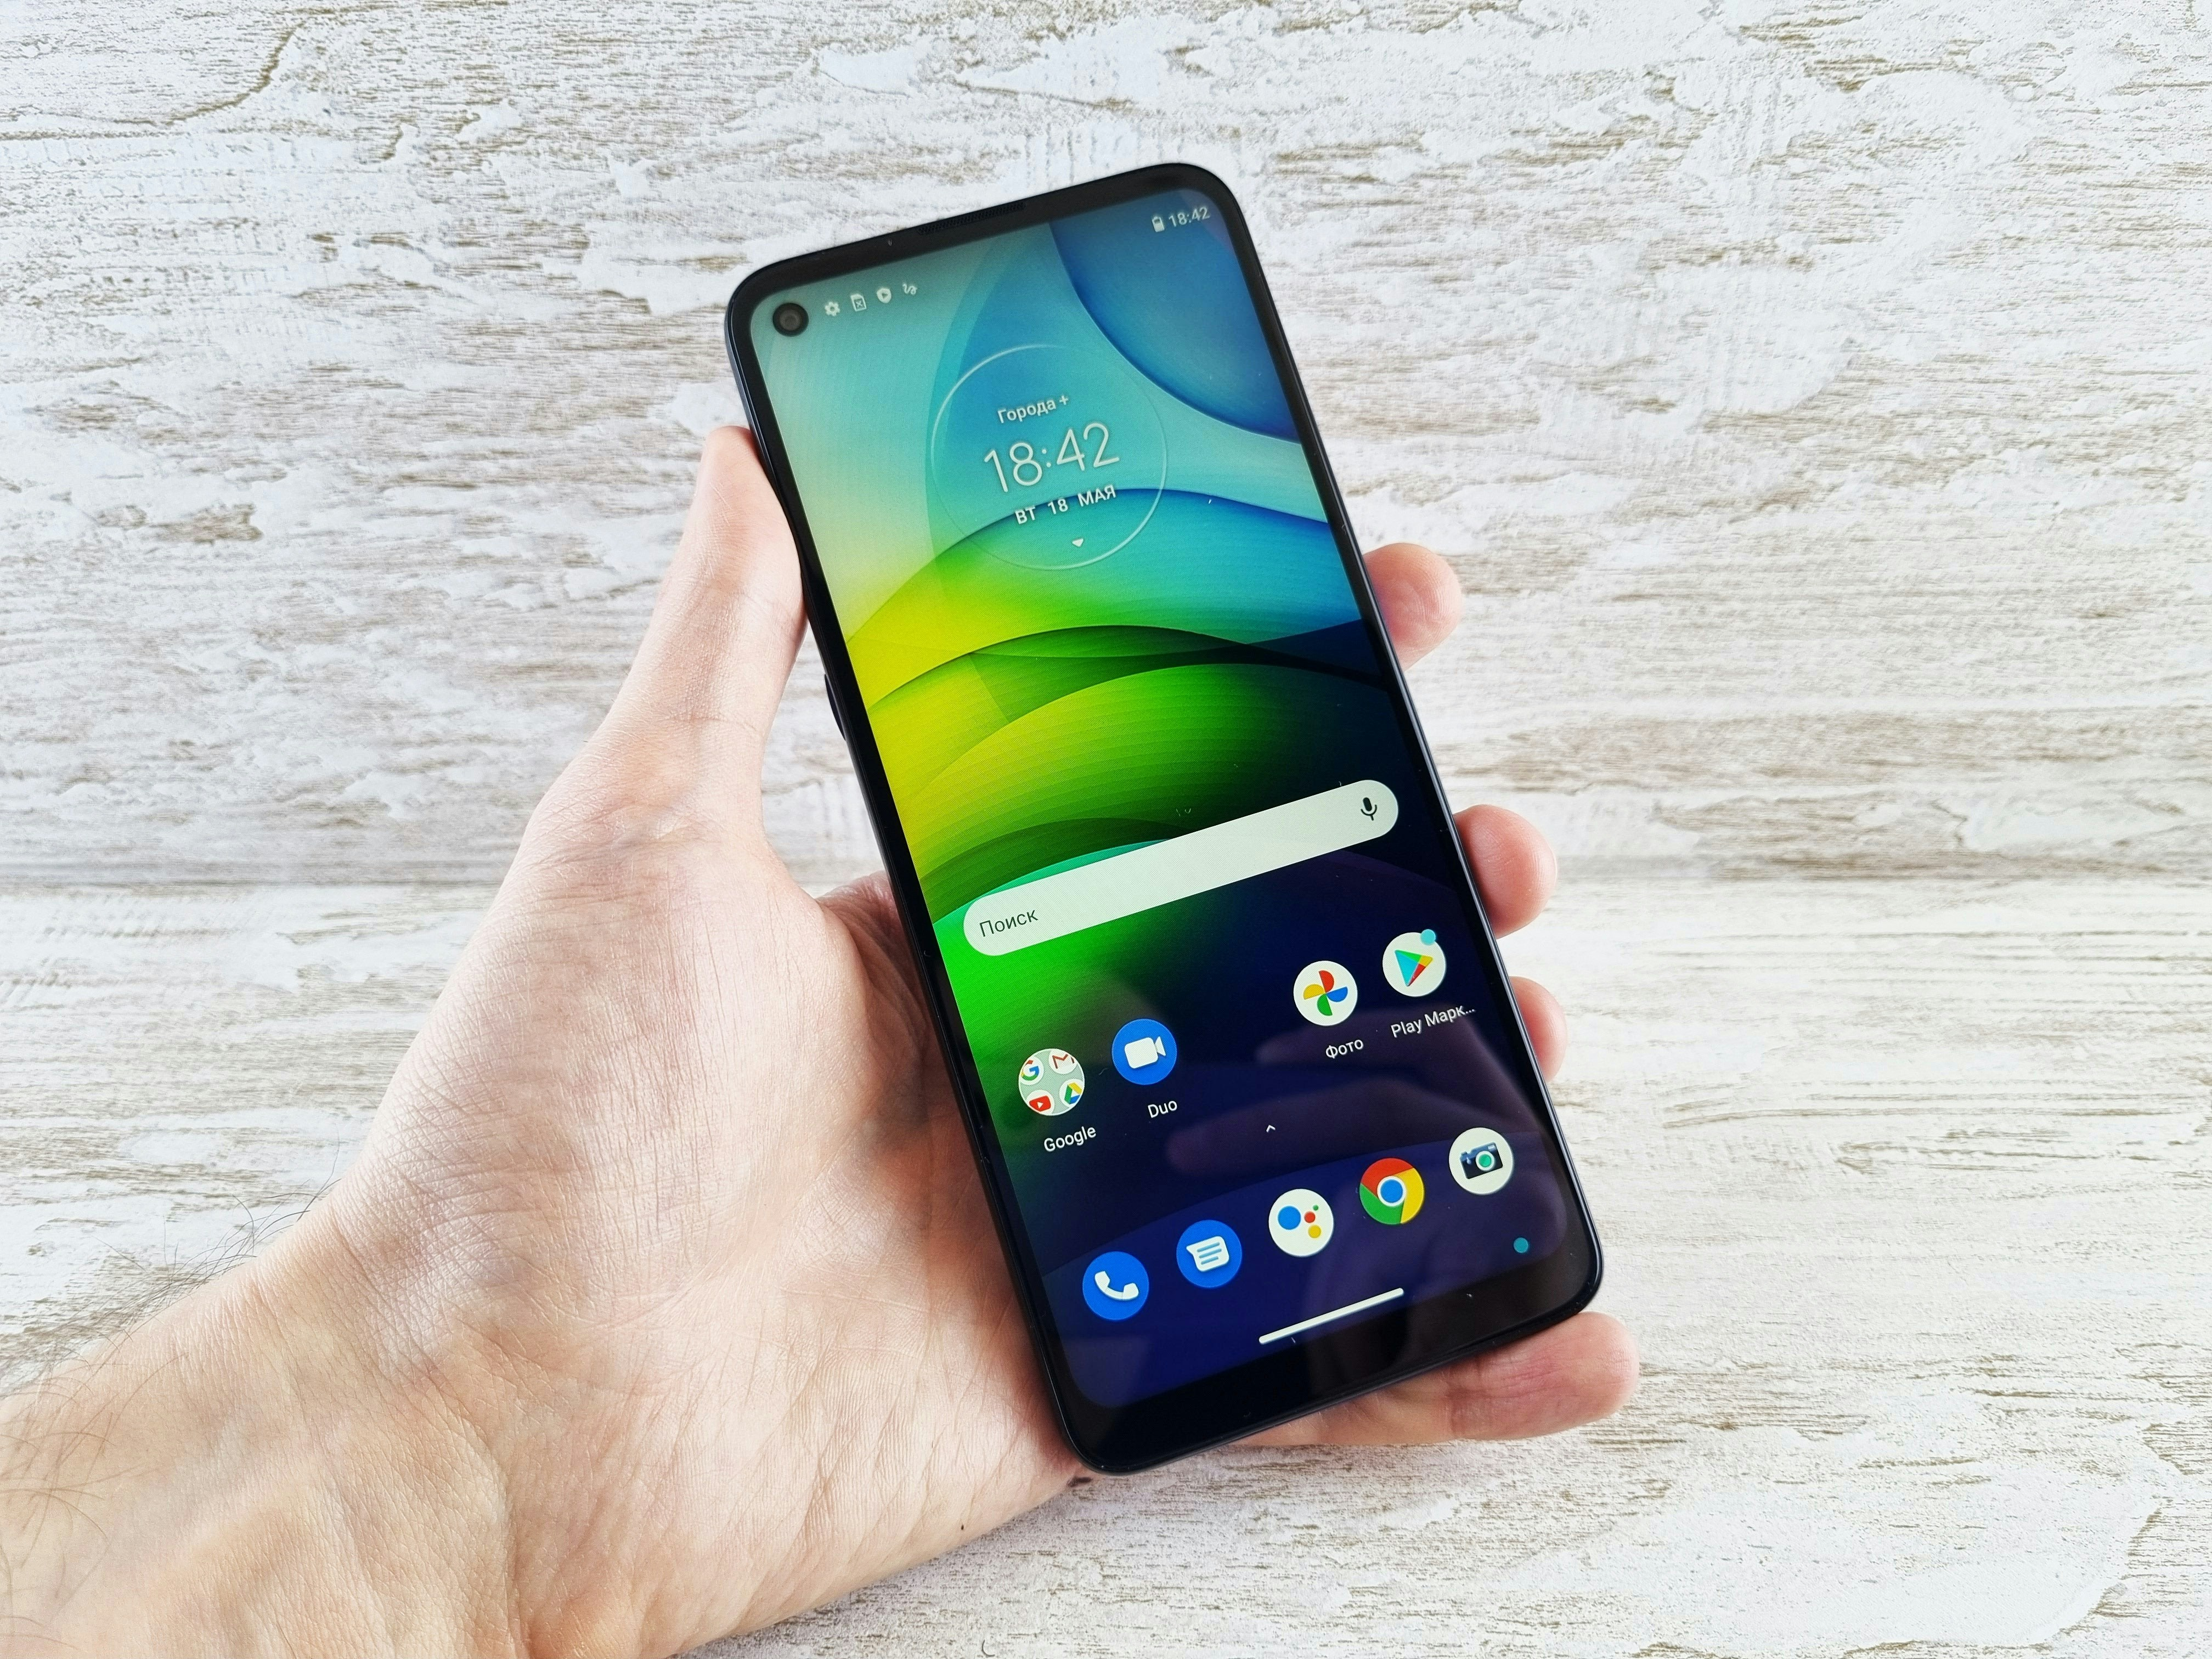p6: (709, 153, 1629, 1483)
